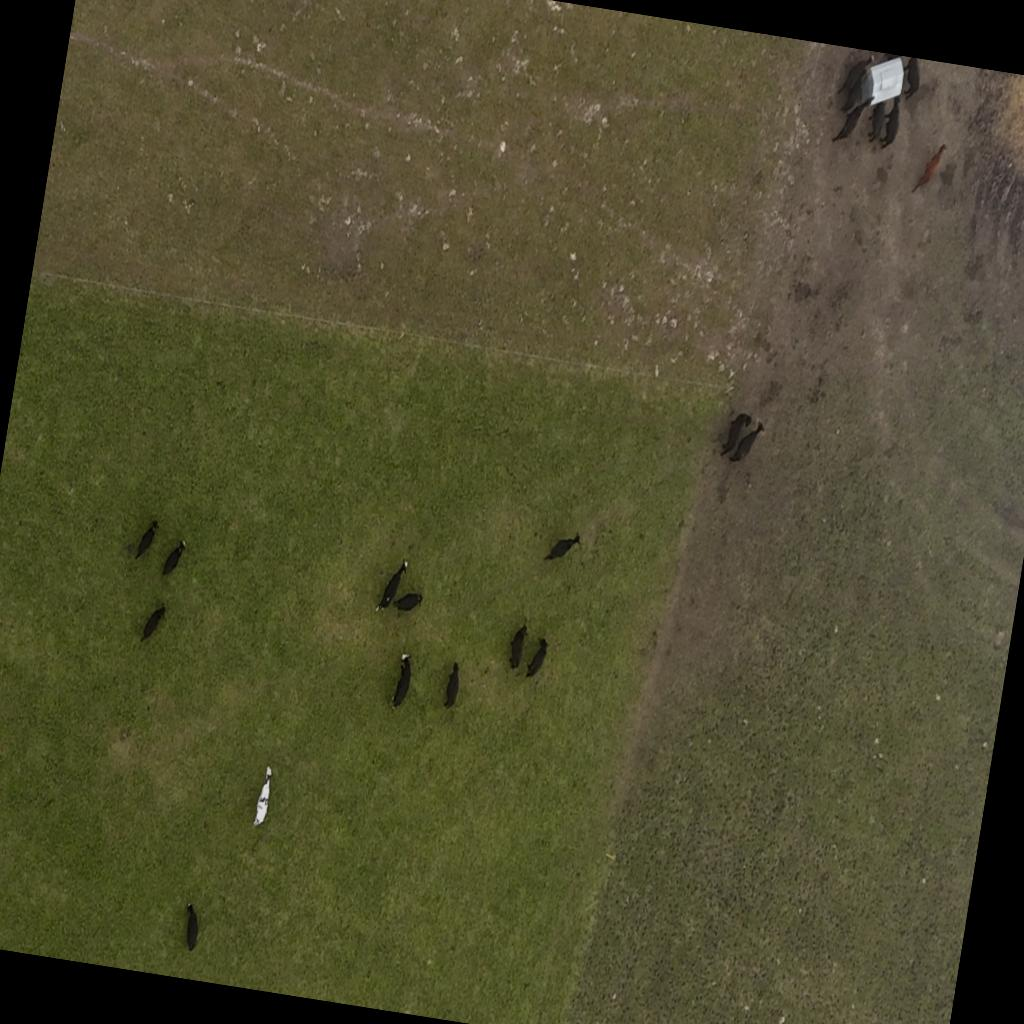cow: (374, 554, 408, 617), (718, 402, 754, 460), (911, 139, 946, 198), (833, 96, 870, 148), (251, 762, 275, 829), (875, 95, 903, 152), (390, 650, 414, 710), (544, 528, 581, 566), (180, 900, 204, 950), (898, 56, 924, 102), (134, 516, 160, 562), (140, 600, 166, 644), (160, 536, 186, 580), (865, 96, 888, 144), (505, 622, 527, 670), (524, 636, 548, 680), (442, 660, 462, 712), (392, 587, 424, 614), (938, 160, 958, 192)
